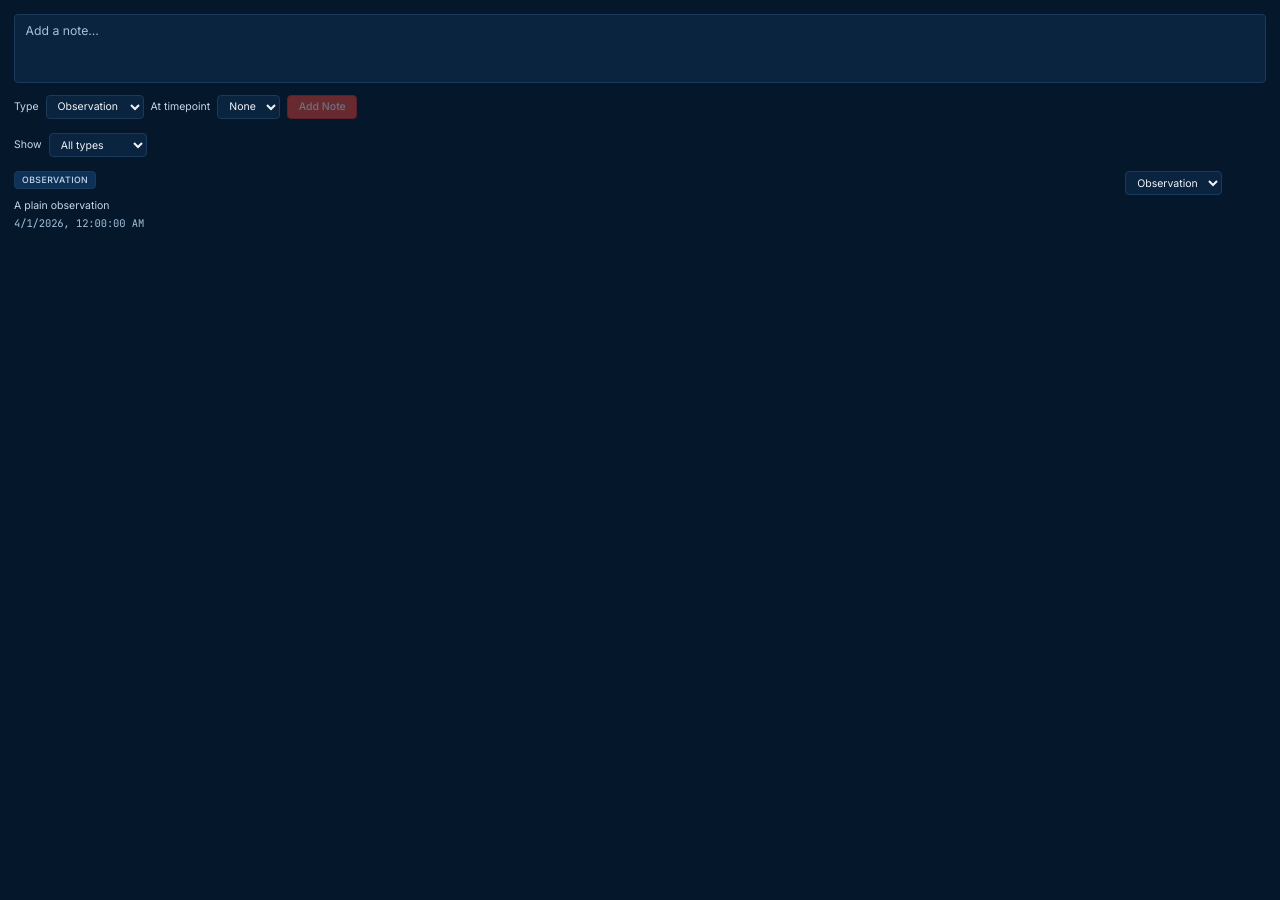
it: NotesTab — typed notes › shows the server detail in a toast when a retype is rejected, and the select keeps the real type
Step 1. Select "Description" in the dropdown named "Note type" → (1174, 183), box [1125,171,1222,195]
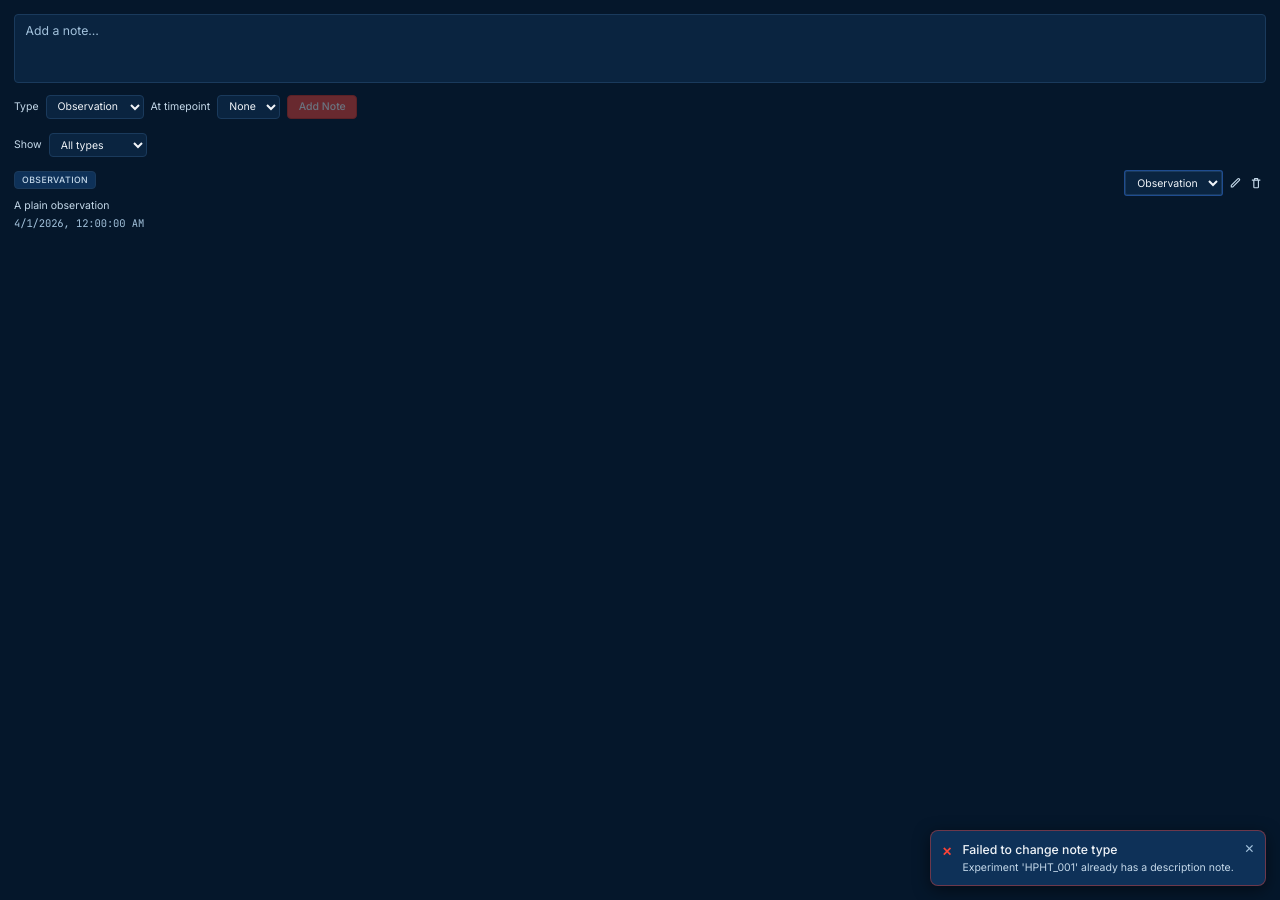
Expected: the text "Experiment 'HPHT_001' already has a description note." is shown, [962,860,1234,874]
